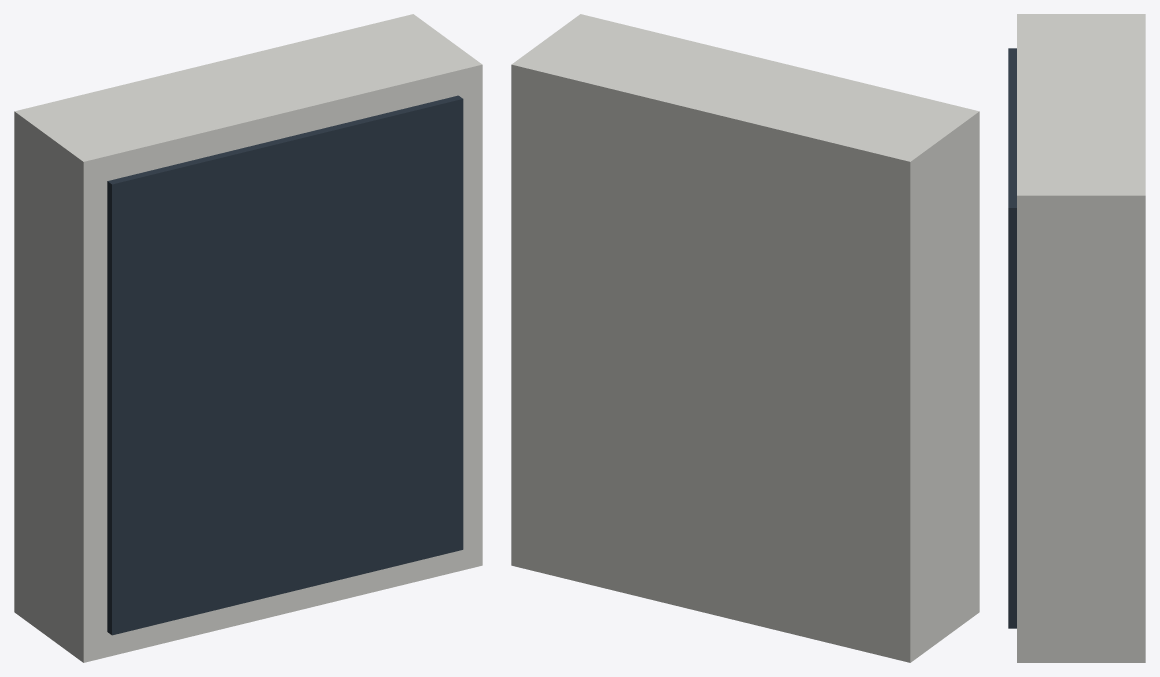
The model's file is medicine cabinet.glb.
3 views of the same model, side by side, from view 1: azimuth 30°, elevation 25°; view 2: azimuth 150°, elevation 25°; view 3: azimuth 270°, elevation 25° (orthographic). The views are drawn at different scales.
Visible parts, largest first — view 1: medicine cabinet; view 2: medicine cabinet; view 3: medicine cabinet.
Part boxes in pixels (bbox=[...]): medicine cabinet: bbox=[14, 14, 482, 662]; medicine cabinet: bbox=[511, 14, 979, 662]; medicine cabinet: bbox=[1008, 14, 1145, 662].
Size of the model in its own units: 0.5 by 0.6 by 0.16.
